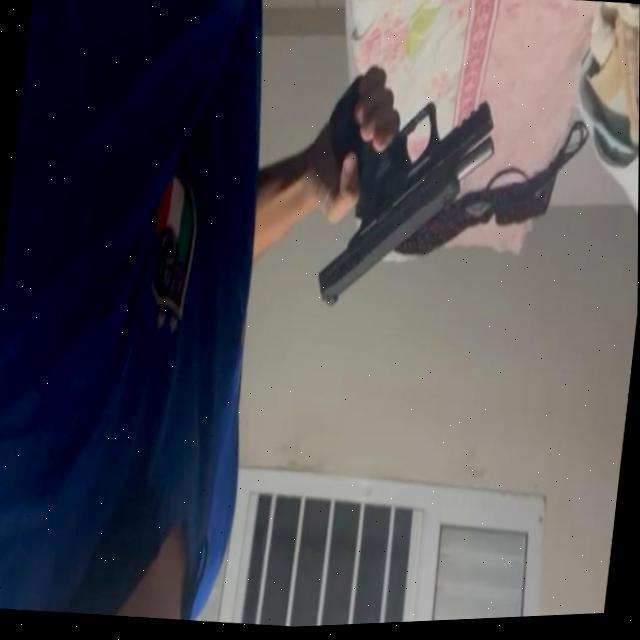gun: (314, 58, 504, 327)
